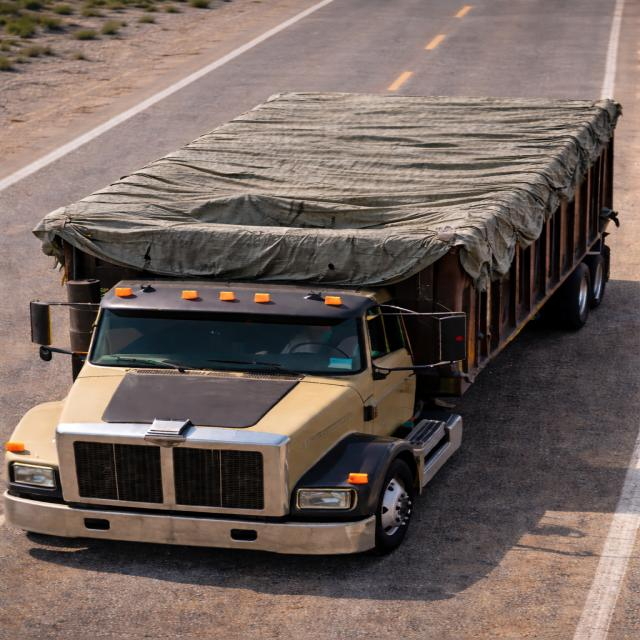Box: (49, 92, 614, 248)
Truck: (1, 82, 634, 551)
